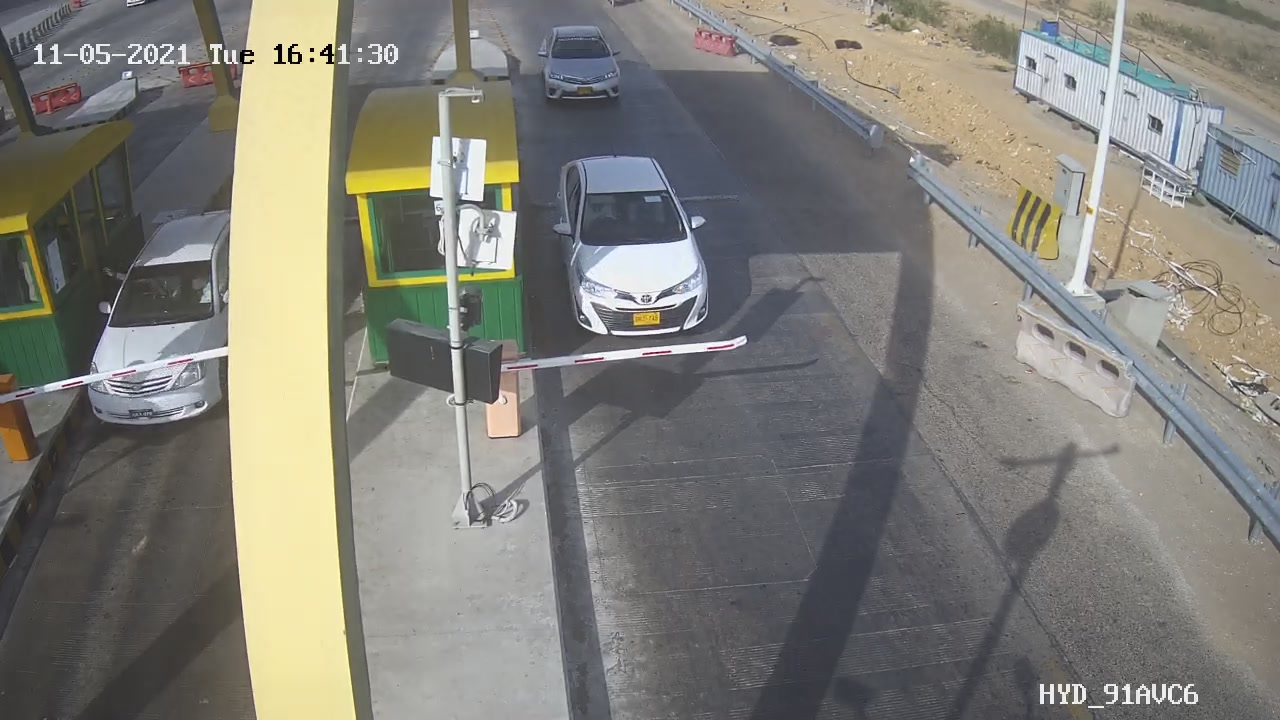F1: (537, 143, 744, 343), (520, 13, 652, 116)
